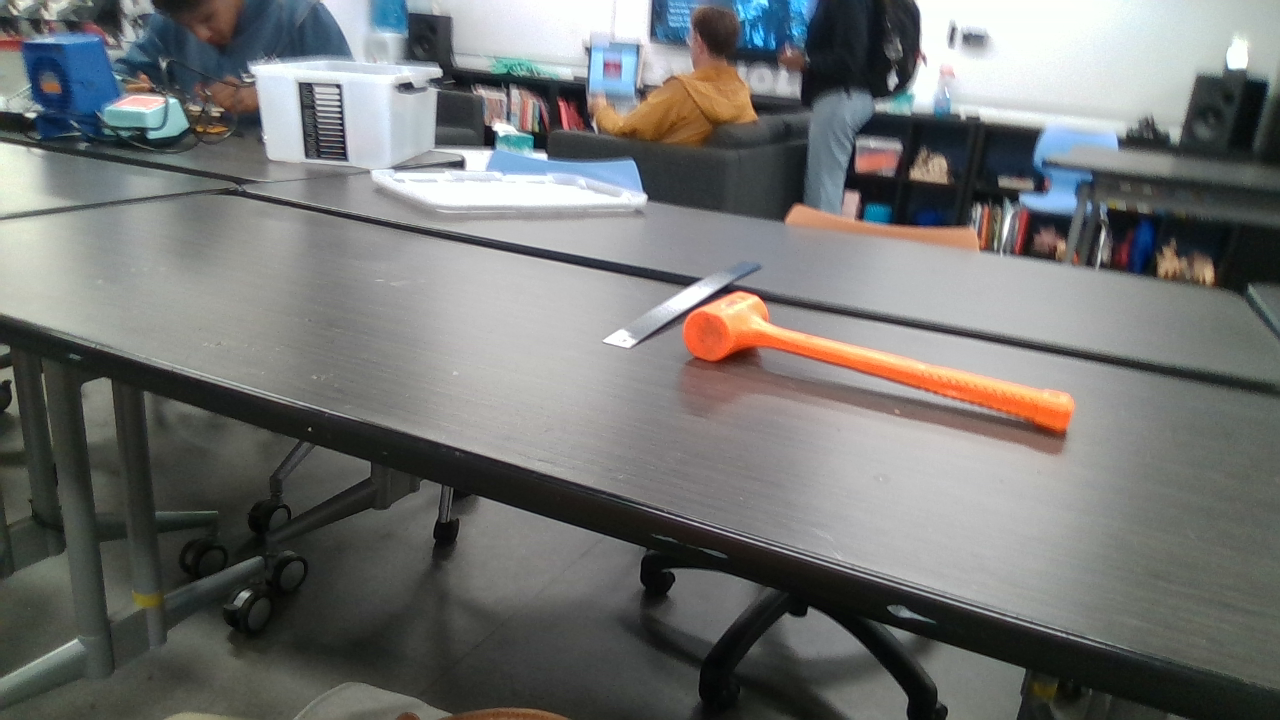Orange Hammer: (681, 291, 1073, 430)
